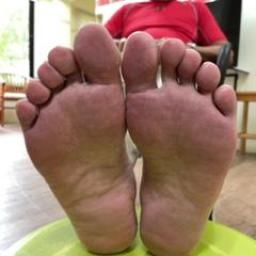Plantar View -Both Feet-: (6, 6, 251, 255)
